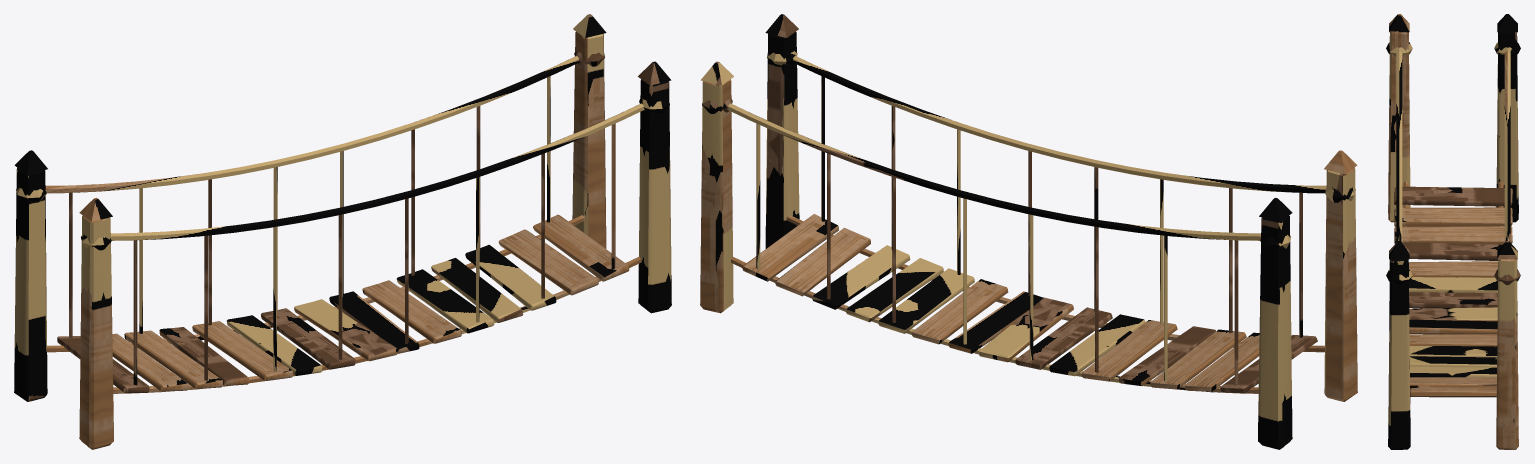
The model's file is rope_bridge.glb.
3 views of the same model, side by side, from view 1: azimuth 30°, elevation 25°; view 2: azimuth 150°, elevation 25°; view 3: azimuth 270°, elevation 25° (orthographic). The views are drawn at different scales.
Visible parts, largest first — view 1: post_front_left, post_back_left, post_front_right, post_back_right, hand_rope_back, hand_rope_front, plank_13, plank_14, plank_7, plank_9, plank_10, plank_12 (+13 smaller); view 2: post_back_left, post_front_left, post_back_right, post_front_right, hand_rope_front, hand_rope_back, plank_13, plank_14, plank_7, plank_9, plank_10, plank_11 (+13 smaller); view 3: post_front_right, post_back_right, post_front_left, post_back_left, plank_1, plank_0, plank_2, plank_3, plank_4, plank_6, plank_5, hand_rope_front (+17 smaller).
Part boxes in pixels (x1,y1,x2,y2): post_front_left: (79, 215, 113, 449); post_back_left: (14, 167, 47, 401); post_front_right: (638, 79, 671, 313); post_back_right: (572, 31, 606, 248); hand_rope_back: (45, 56, 579, 193); hand_rope_front: (111, 103, 644, 240); plank_13: (498, 229, 598, 295); plank_14: (533, 214, 629, 281); plank_7: (294, 299, 397, 361); plank_9: (362, 280, 461, 343); plank_10: (396, 269, 494, 333); plank_12: (465, 245, 556, 310); post_back_left: (1258, 215, 1292, 449); post_front_left: (1324, 167, 1357, 401); post_back_right: (700, 79, 733, 313); post_front_right: (765, 31, 799, 248); hand_rope_front: (792, 56, 1326, 193); hand_rope_back: (727, 103, 1260, 240); plank_13: (775, 227, 870, 296); plank_14: (742, 214, 838, 281); plank_7: (978, 297, 1073, 362); plank_9: (911, 279, 1008, 344); plank_10: (878, 268, 974, 333); plank_11: (845, 258, 943, 322); post_front_right: (1388, 259, 1410, 449); post_back_right: (1496, 259, 1518, 449); post_front_left: (1388, 32, 1410, 222); post_back_left: (1496, 32, 1518, 222); plank_1: (1394, 207, 1512, 226); plank_0: (1394, 186, 1512, 206); plank_2: (1394, 226, 1512, 244); plank_3: (1394, 242, 1502, 260); plank_4: (1408, 261, 1498, 277); plank_6: (1409, 292, 1497, 308); plank_5: (1409, 277, 1497, 292); hand_rope_front: (1396, 51, 1402, 242).
Size of what is drawn, in the model's own units: 3.44 by 1.38 by 0.8236.
Materials: 3 (3 with a texture image).
